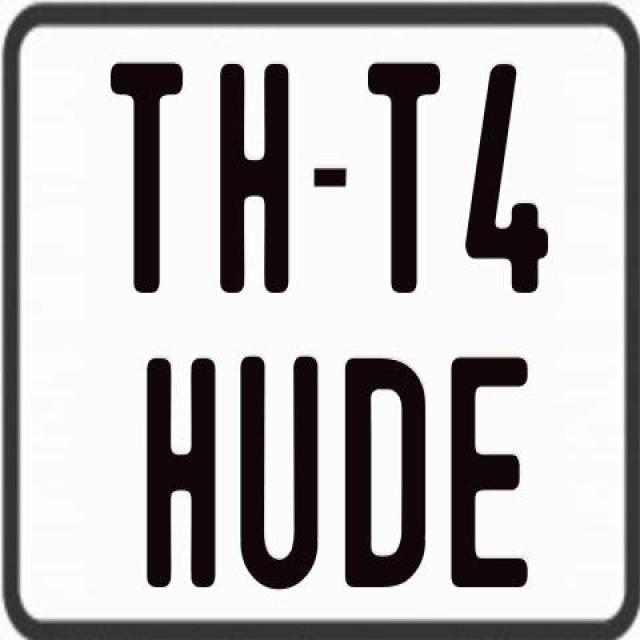4: (466, 61, 554, 294)
D: (342, 358, 427, 594)
E: (447, 352, 525, 584)
H: (218, 62, 294, 298), (142, 356, 210, 594)
T: (108, 59, 182, 296), (367, 63, 440, 294)
U: (237, 356, 319, 596)
